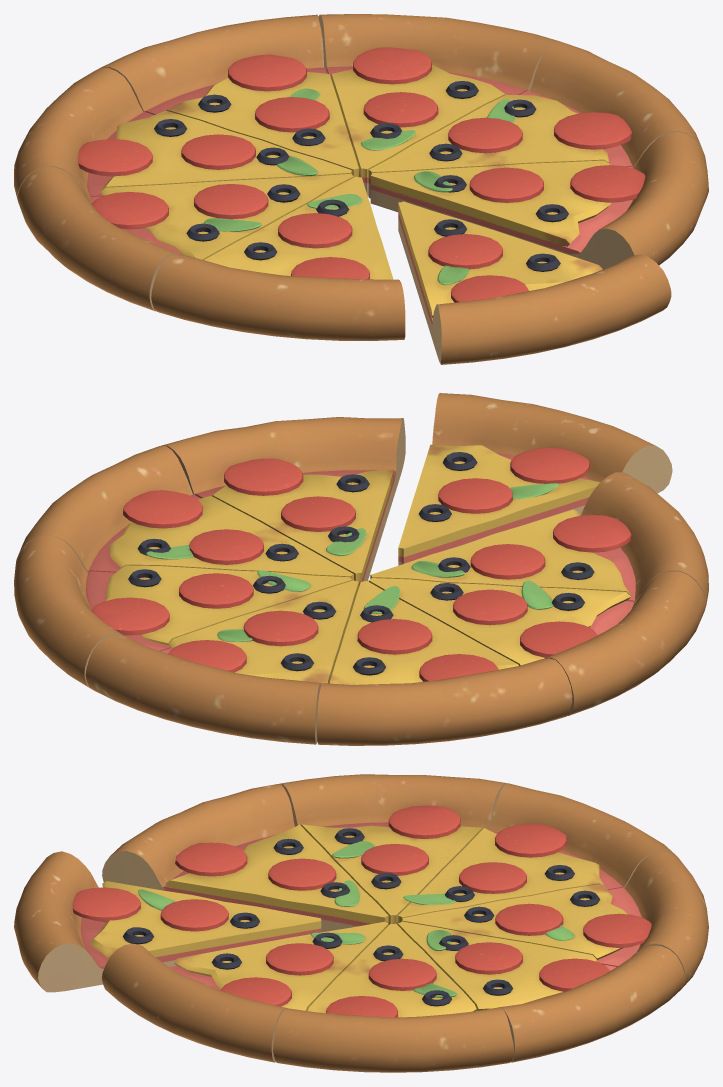
File: pizza.glb
3 views of the same model, one above another, from view 1: azimuth 30°, elevation 25°; view 2: azimuth 150°, elevation 25°; view 3: azimuth 270°, elevation 25° (orthographic). The views are drawn at different scales.
Visible parts, largest first — view 1: pizza_body, pizza_slice; view 2: pizza_body, pizza_slice; view 3: pizza_body, pizza_slice.
Boxes of the visible parts, x1,y1,x2,y2 form: pizza_body: [14, 14, 708, 340]; pizza_slice: [398, 201, 671, 364]; pizza_body: [14, 417, 708, 745]; pizza_slice: [398, 393, 672, 565]; pizza_body: [102, 774, 708, 1072]; pizza_slice: [14, 851, 321, 992].
Size of the model in its own units: 0.3033 by 0.0256 by 0.3328.
Materials: 2 (2 with a texture image).
